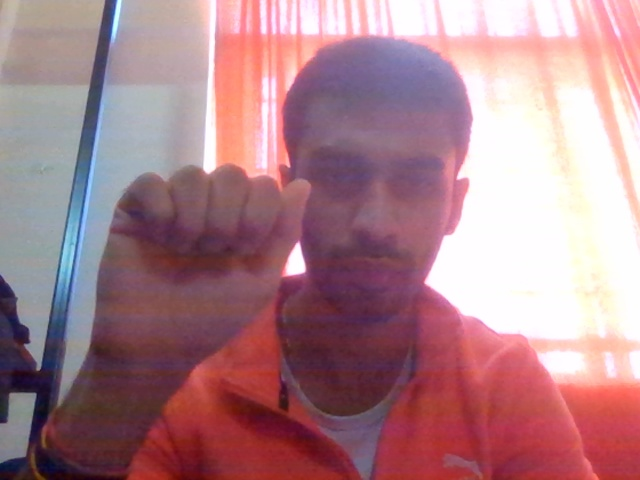A: (80, 130, 315, 416)
